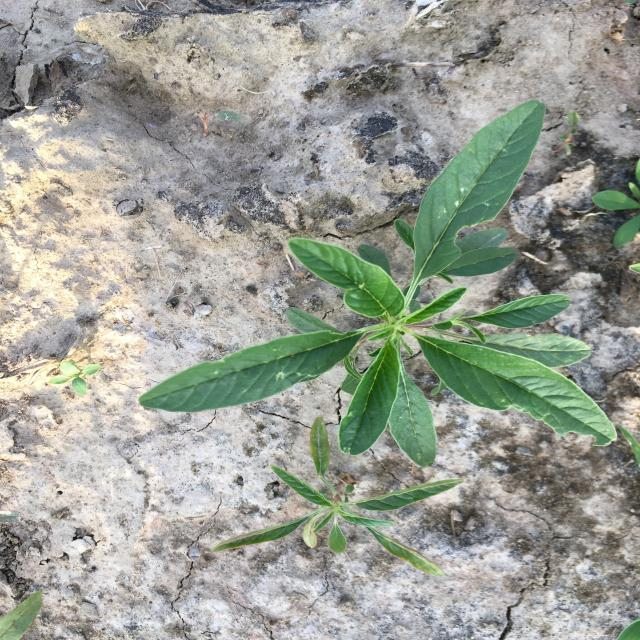Waterhemp: (138, 100, 618, 468), (211, 417, 465, 579)
